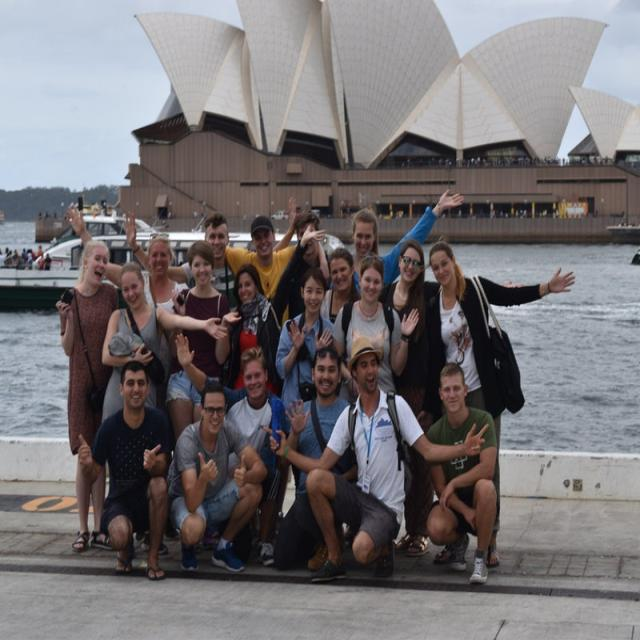body: (260, 332, 490, 586), (424, 239, 577, 572), (377, 238, 526, 560), (174, 332, 288, 567), (268, 340, 367, 577), (76, 358, 175, 582), (98, 260, 230, 428), (66, 204, 190, 381), (123, 194, 300, 313), (162, 378, 270, 572), (54, 239, 120, 552), (420, 359, 502, 589), (166, 238, 244, 449), (0, 189, 186, 274), (328, 185, 467, 298), (185, 198, 640, 230), (274, 266, 336, 500), (332, 254, 422, 397), (225, 215, 330, 328), (222, 261, 284, 396), (383, 152, 639, 170), (293, 209, 323, 267)
